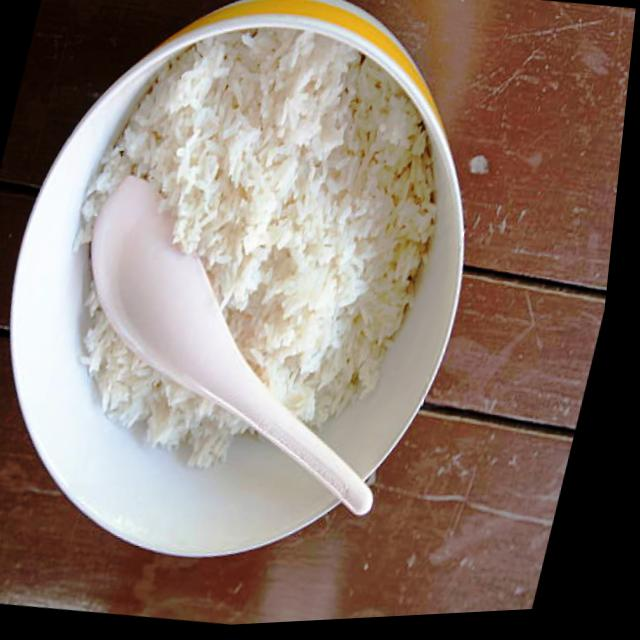rice: (17, 0, 486, 506)
